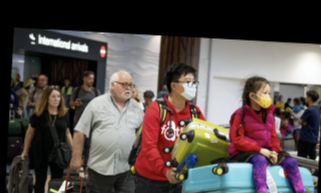with_mask: (175, 77, 198, 99), (255, 86, 273, 110)
without_mask: (116, 79, 135, 101), (48, 93, 62, 107), (35, 76, 48, 88), (85, 74, 95, 87), (143, 94, 154, 104)
